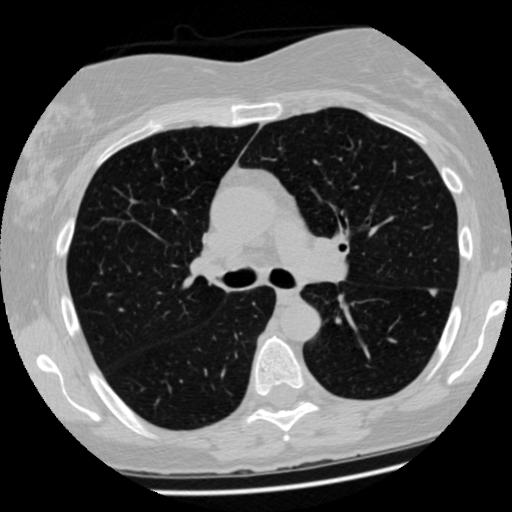nodule: (426, 286, 440, 300)
